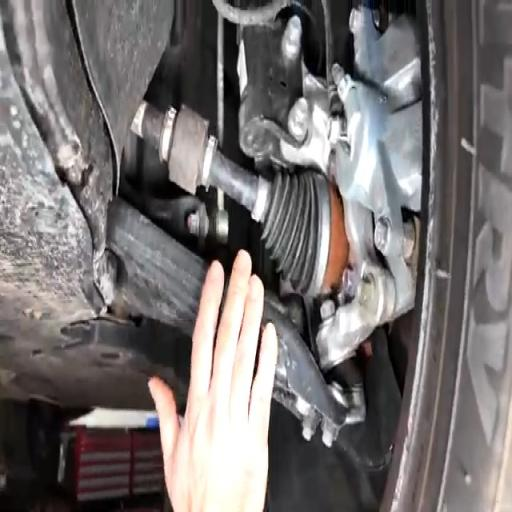tire: (384, 0, 511, 511)
